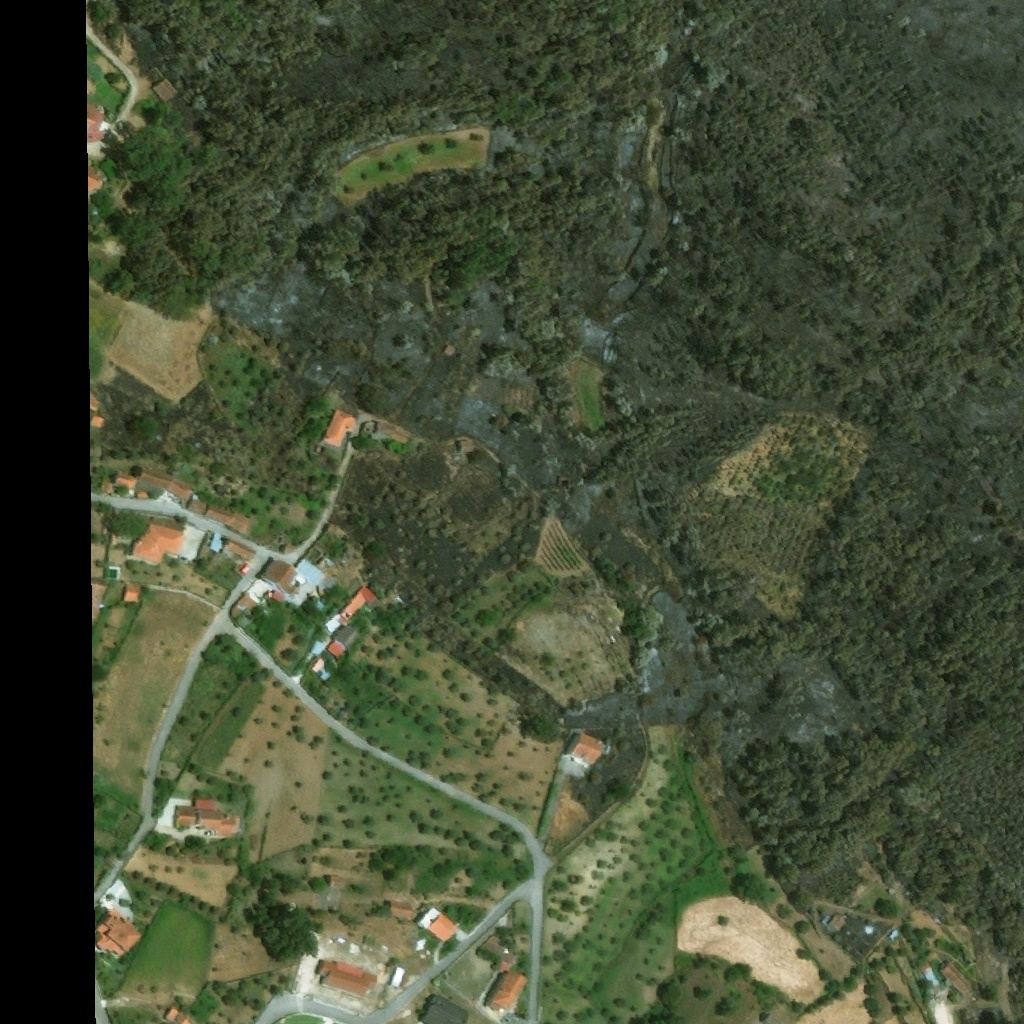0 no-damage: (130, 517, 207, 565), (316, 959, 380, 997), (174, 805, 244, 839), (230, 578, 275, 625), (102, 909, 146, 957), (135, 466, 194, 500), (478, 933, 525, 975), (486, 970, 528, 1016), (260, 557, 309, 595), (323, 408, 363, 448), (205, 501, 251, 534), (326, 621, 364, 660), (941, 959, 976, 999), (423, 994, 470, 1023), (569, 730, 605, 767), (427, 911, 460, 945), (223, 535, 258, 563), (297, 557, 326, 587), (307, 656, 336, 684), (340, 594, 368, 621), (153, 76, 180, 104), (417, 904, 442, 931), (920, 964, 942, 988), (324, 614, 350, 634), (165, 1005, 193, 1023), (357, 583, 381, 604), (187, 495, 211, 516), (113, 473, 139, 490), (266, 587, 286, 606), (376, 421, 399, 436), (390, 966, 406, 987), (389, 904, 413, 918), (124, 586, 143, 603), (95, 171, 108, 192), (458, 439, 477, 452), (194, 799, 216, 808), (889, 928, 903, 942), (103, 480, 115, 493), (136, 491, 150, 499)
4 un-classified: (401, 937, 422, 954), (954, 1010, 969, 1023), (95, 206, 100, 216)
